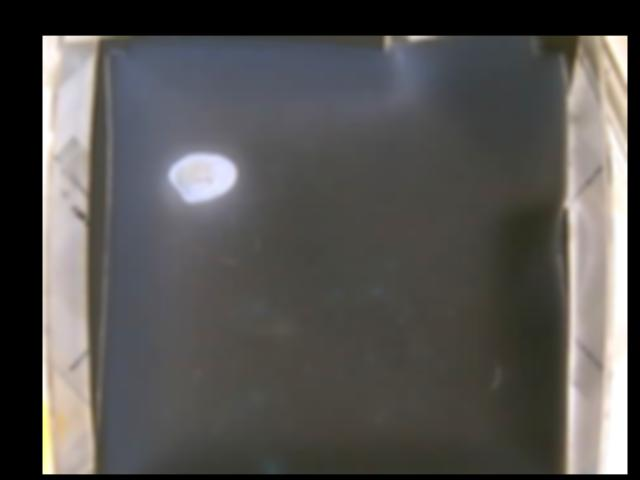Pebble: (166, 151, 236, 202)
